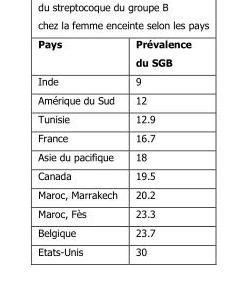table: (37, 37, 190, 256)
table column: (37, 37, 125, 256), (125, 37, 190, 256)
table column header: (37, 37, 190, 71)
table row: (37, 37, 190, 71), (37, 71, 190, 90), (37, 108, 190, 127), (37, 127, 190, 146), (37, 146, 190, 165), (37, 165, 190, 184), (37, 184, 190, 203), (37, 203, 190, 222), (37, 222, 190, 241), (37, 90, 190, 108), (37, 241, 190, 256)
